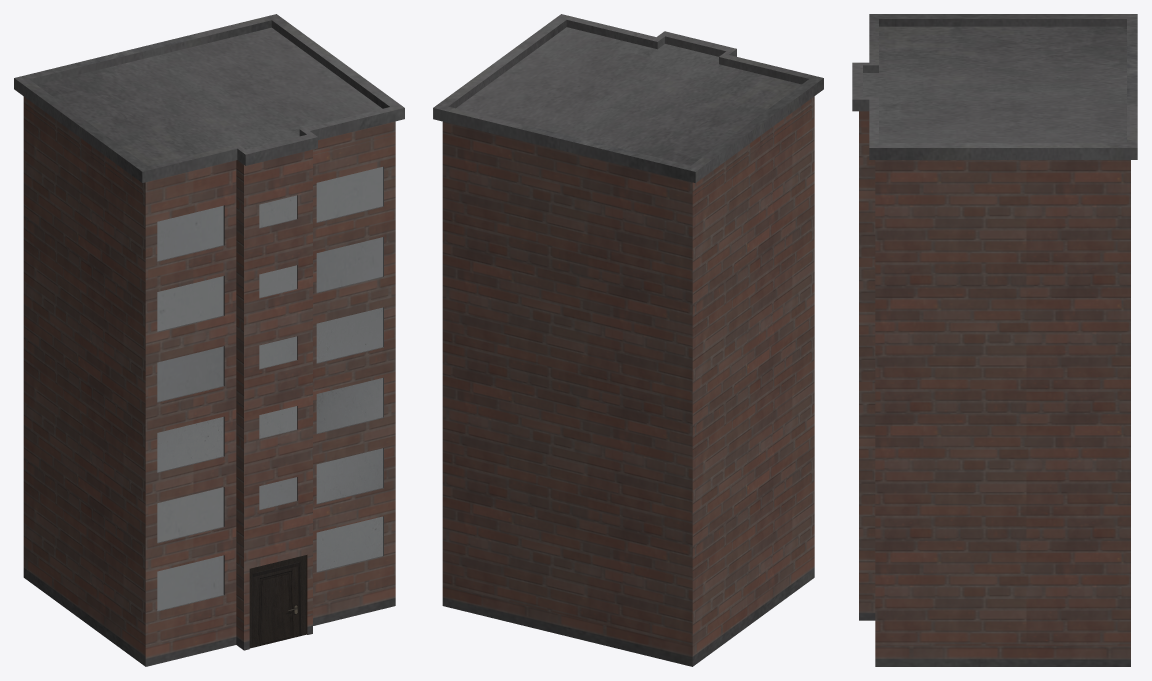
File: RTBrickBuildingWoodenDoor.fbx
3 renders of one model, left to right at view 1: azimuth 30°, elevation 25°; view 2: azimuth 150°, elevation 25°; view 3: azimuth 270°, elevation 25°, orthographic. The views are drawn at different scales.
Parts seen in each view (by area): view 1: Building Sky_big_color01; view 2: Building Sky_big_color01; view 3: Building Sky_big_color01.
Boxes of the visible parts, left/top/right/bottom form: Building Sky_big_color01: left=14, top=14, right=404, bottom=666; Building Sky_big_color01: left=433, top=14, right=823, bottom=666; Building Sky_big_color01: left=852, top=14, right=1137, bottom=666.
Bounding box in the file's own units: 1366 × 2480 × 1230.
Materials: 1 (1 with a texture image).
